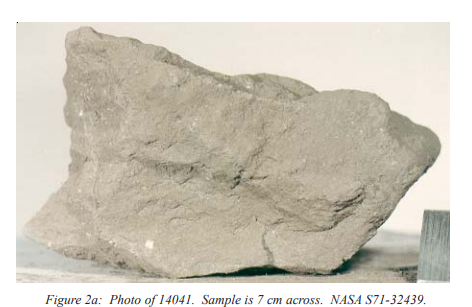Breccia: (1, 29, 432, 276)
